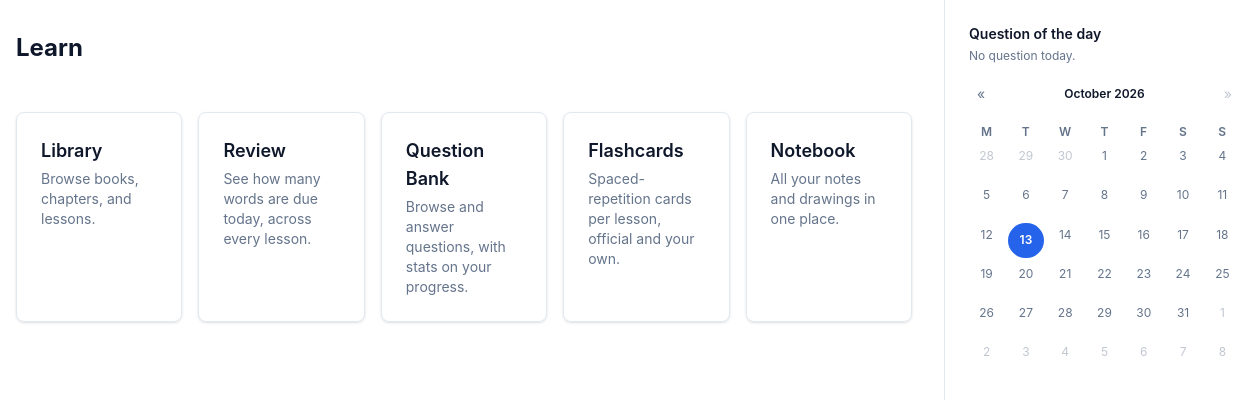
Scenario: LearnPage question of the day › asks for every day it renders, not just the month, and will not page into the future
Check: the heading "Question of the day" is shown, box [969,25,1101,42]
Check: the button named "Next month" is disabled, box [1216,80,1240,108]
Step 1. Click the button named "Previous month" → (981,94), box [969,80,993,108]
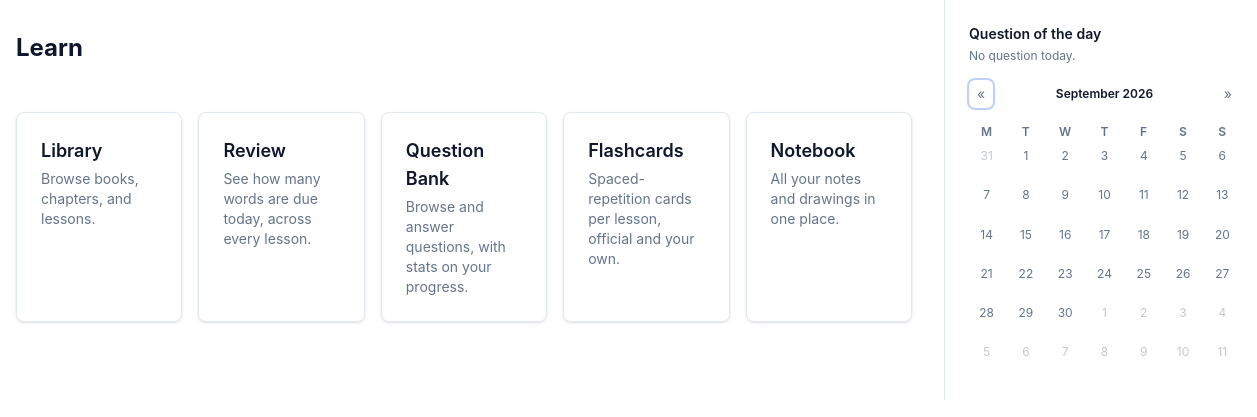
Check: the text "September 2026" is shown, box [1056,86,1153,102]
Check: the button named "Next month" is enabled, box [1216,80,1240,108]
